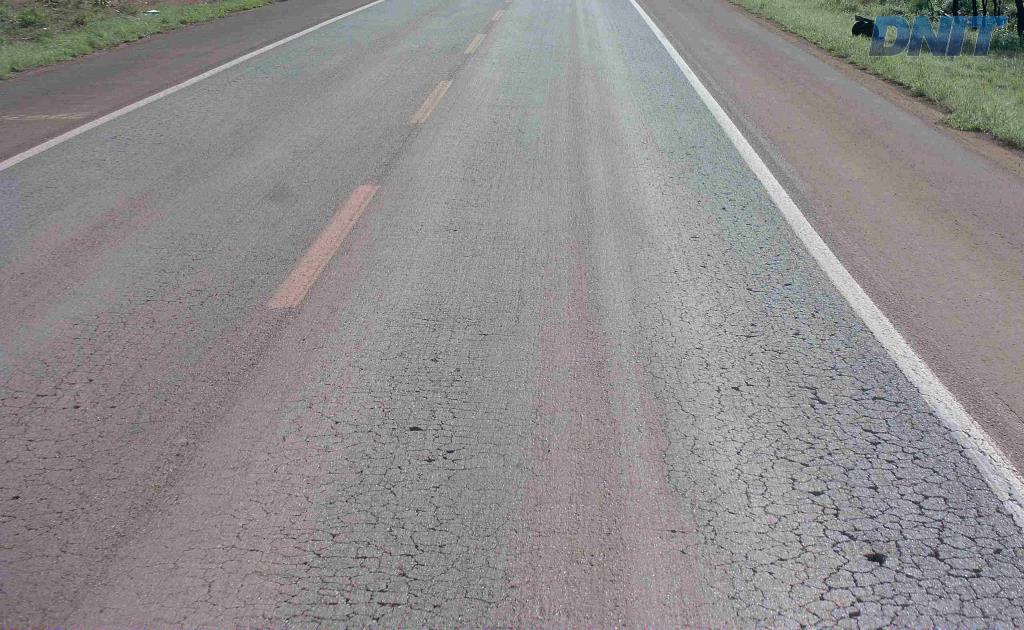crack: (904, 483, 993, 589), (961, 523, 1023, 573)
